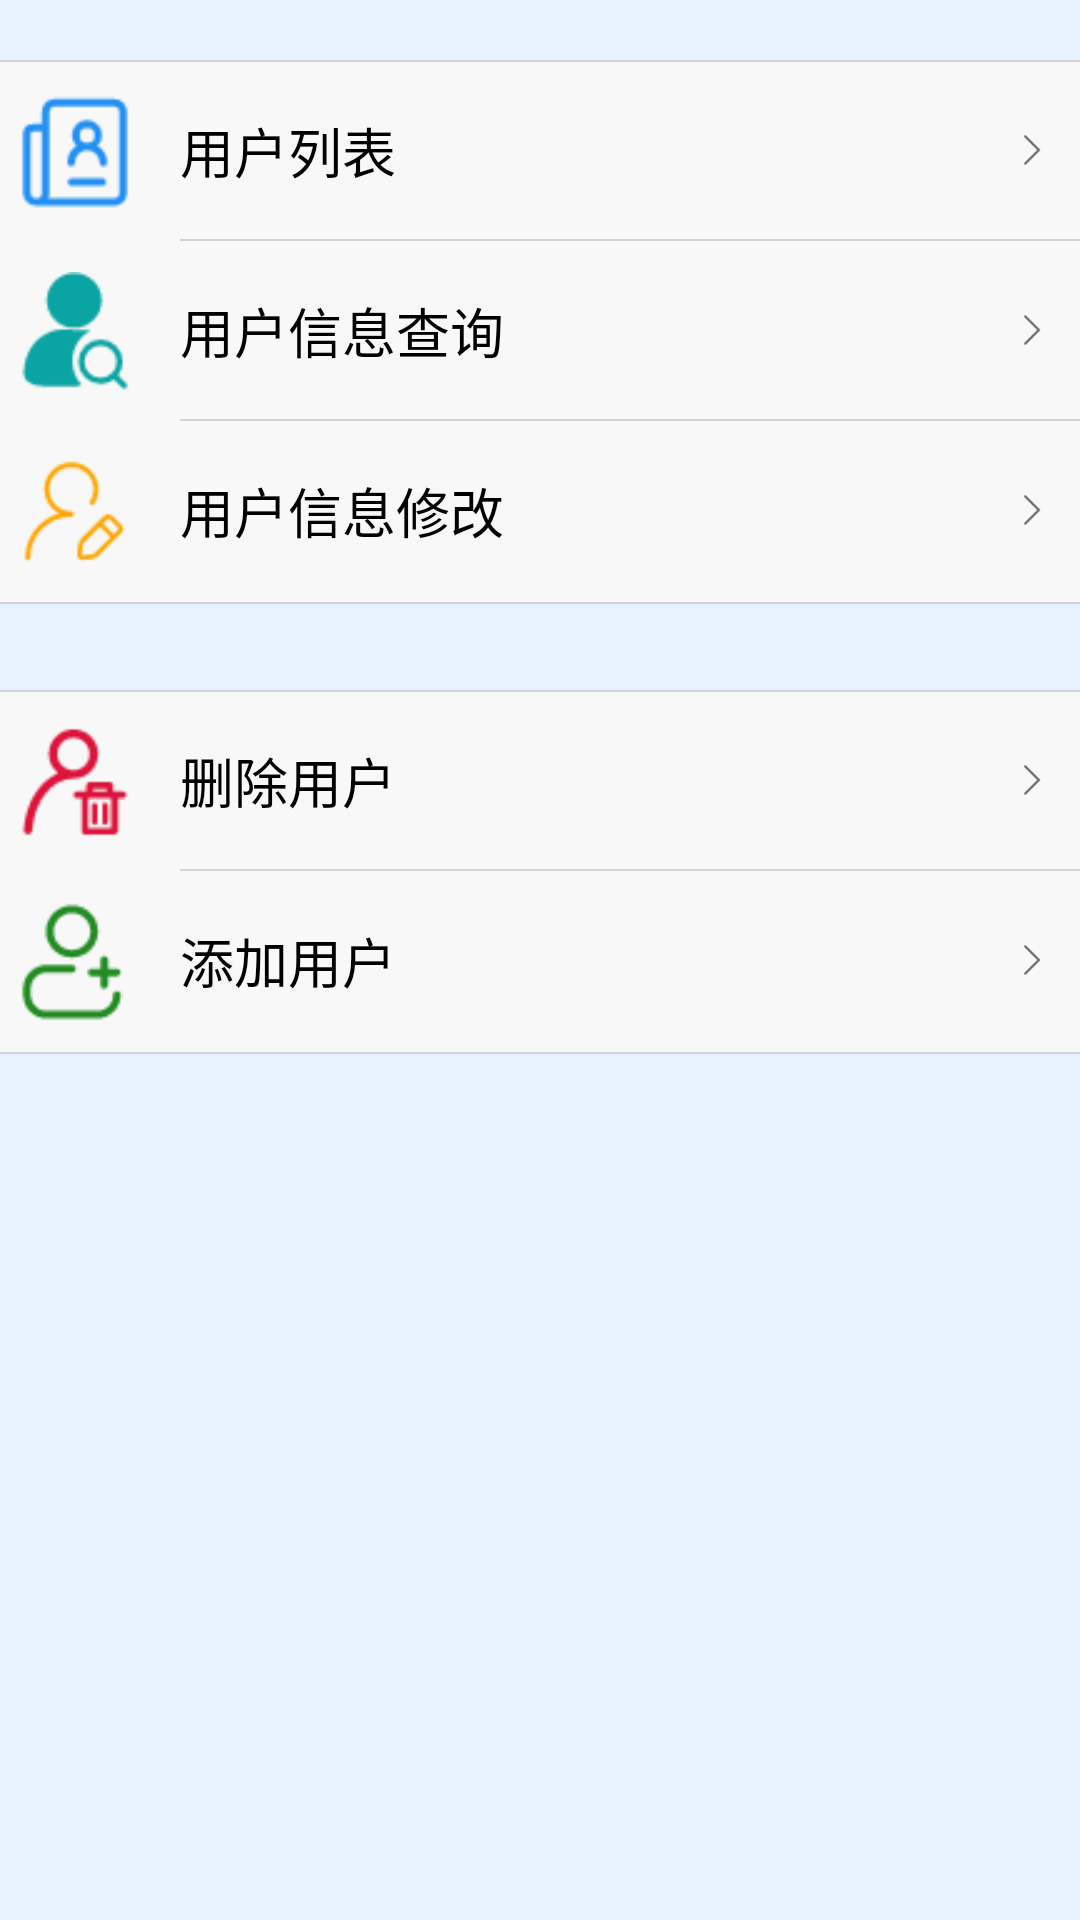

Screen size 1080 x 1920. Icon name, then its center in pixels as (x,y):
add user: (72,962)
delete user: (75,782)
modify user: (74,511)
query user: (75,331)
